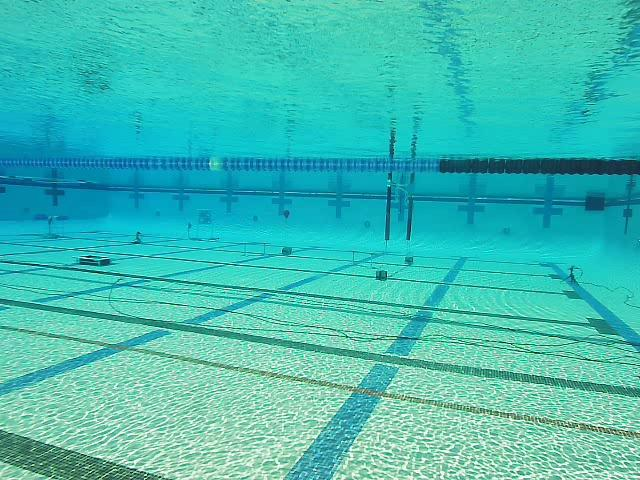dropper: (71, 254, 113, 267)
gate_leg_l: (384, 172, 392, 241)
gate_leg_r: (406, 195, 413, 240)
table: (31, 212, 69, 239)
torpedo: (196, 208, 213, 225)
